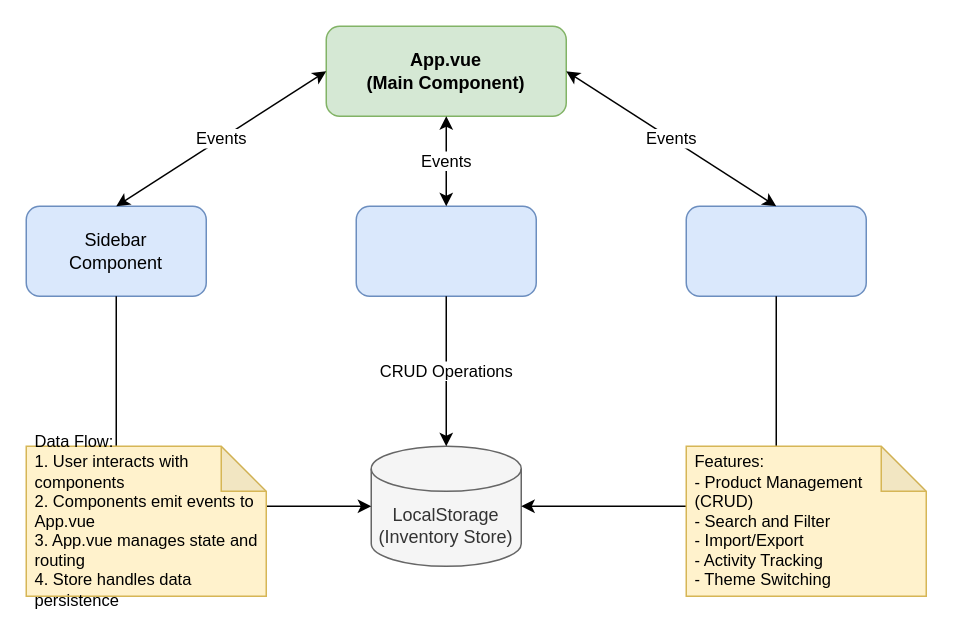
The diagram is 953 pixels wide and 636 high, and some of its shapes have lost their labels. The shapes that lost their labels are listed below. From the top down, each one's centre as x and y in pixels, then its label:
point (445, 250): ProductList Component
point (775, 250): ProductForm Component
